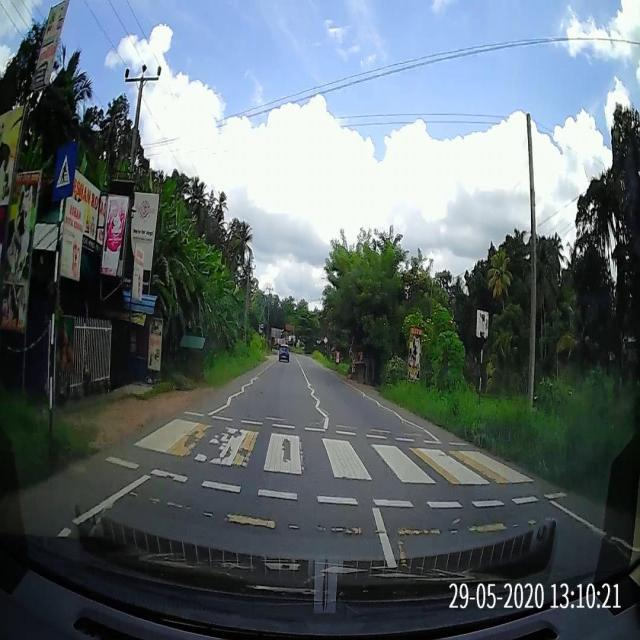Crosswalk: (92, 408, 578, 512)
